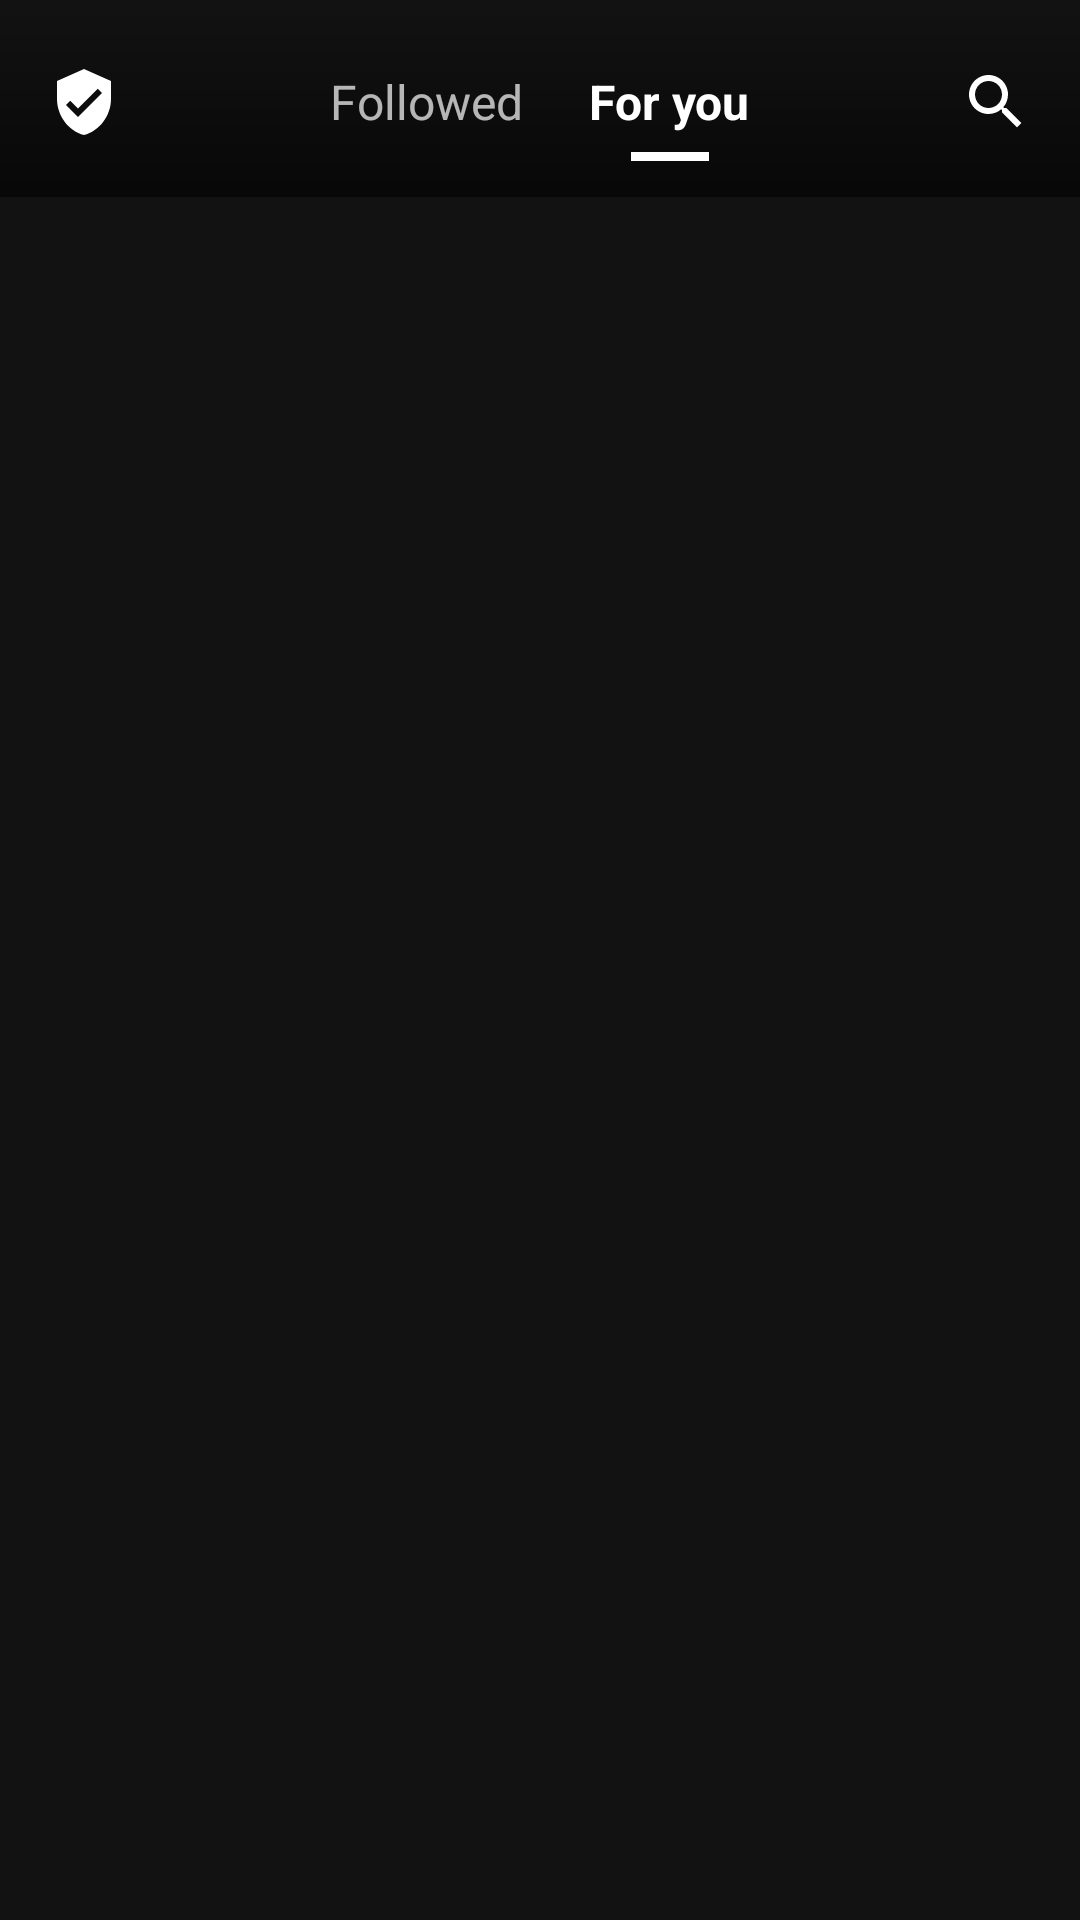

Screen size 1080px x 1920px. Icon name, then its box in pixels as (x1, y1, x2, y2):
Content shield: (57, 69, 111, 135)
Search: (969, 75, 1021, 127)
